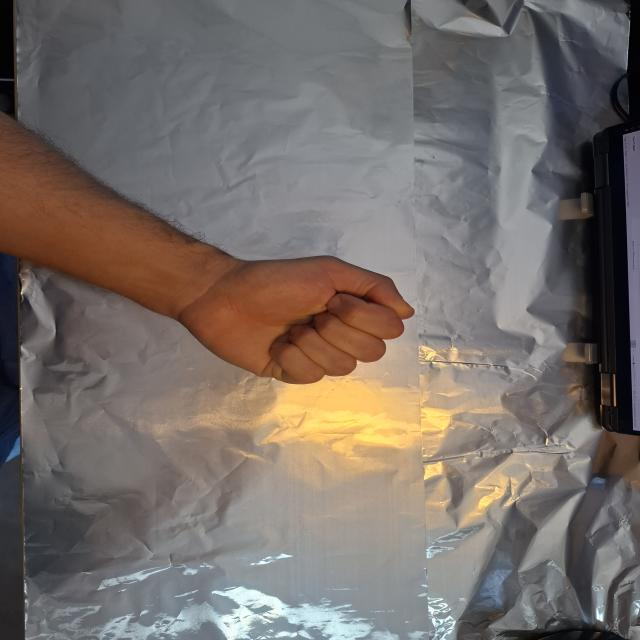glove_off: (173, 254, 417, 386)
